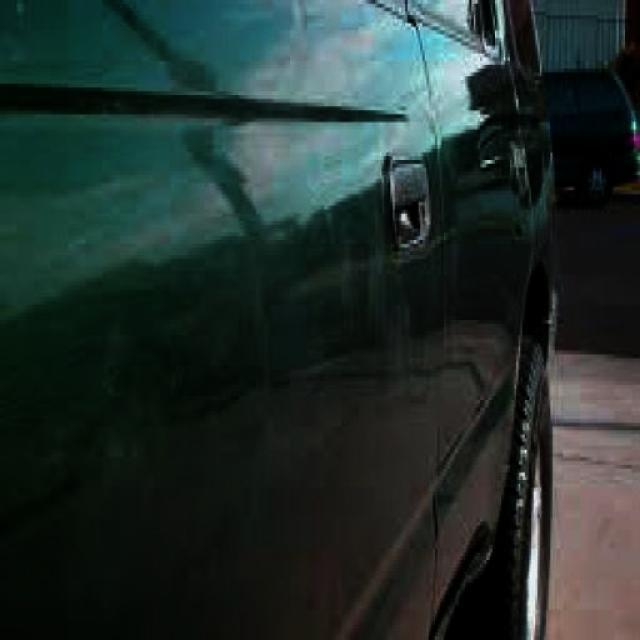car damage: (331, 222, 421, 378), (473, 112, 518, 178)
